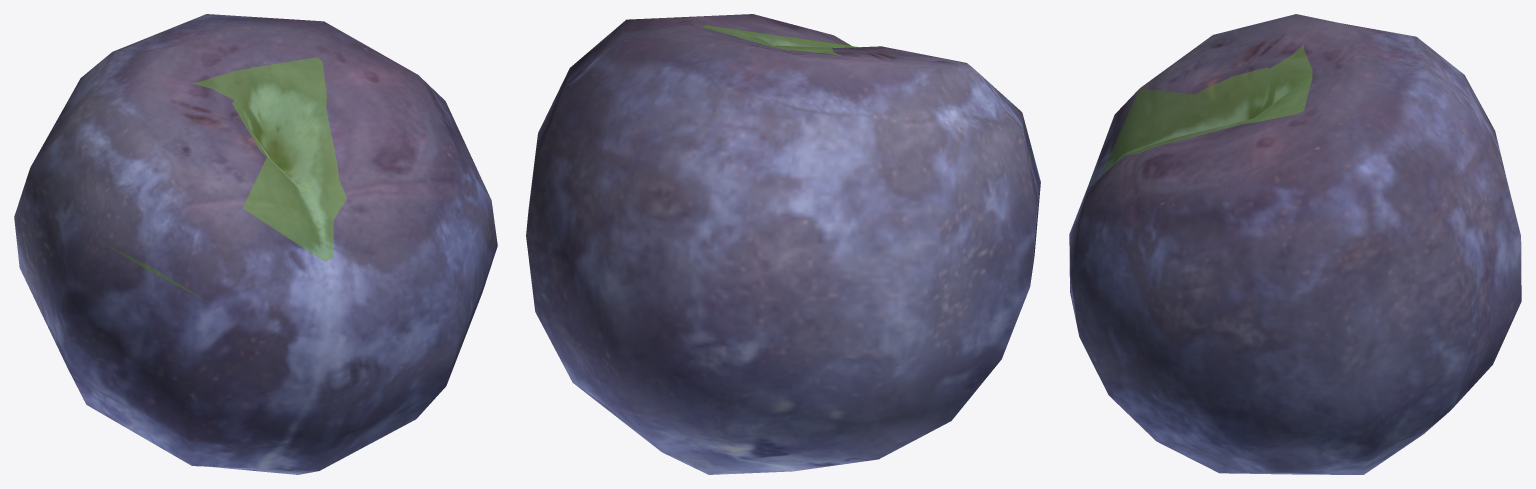
The model's file is pg_Plum_03.fbx.
The picture shows the model from 3 angles, left to right: view 1: azimuth 30°, elevation 25°; view 2: azimuth 150°, elevation 25°; view 3: azimuth 270°, elevation 25°; orthographic projection. The views are drawn at different scales.
Visible parts, largest first — view 1: pg_Plum_03_a_LOD0, pg_Plum_03_a_col; view 2: pg_Plum_03_a_LOD0, pg_Plum_03_a_col; view 3: pg_Plum_03_a_LOD0, pg_Plum_03_a_col.
Boxes of the visible parts, x1,y1,x2,y2 form: pg_Plum_03_a_LOD0: (14,14,497,474); pg_Plum_03_a_col: (73,57,346,301); pg_Plum_03_a_LOD0: (526,14,1040,474); pg_Plum_03_a_col: (703,25,1031,169); pg_Plum_03_a_LOD0: (1069,14,1521,474); pg_Plum_03_a_col: (1101,45,1312,175).
Size of what is drawn, in the model's own units: 6.7 by 6.19 by 6.31.
Materials: 2 (1 with a texture image).
